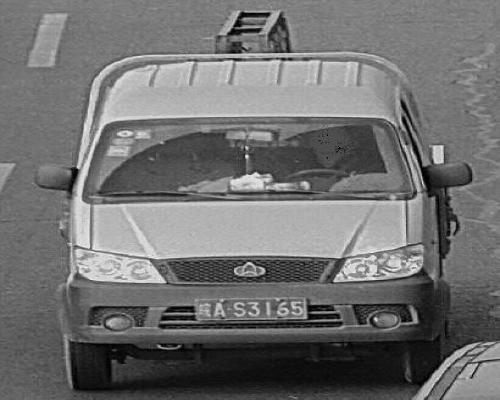Carplate: (187, 293, 312, 327)
